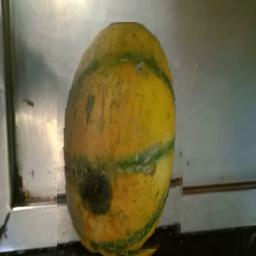Melon Semirotten: (57, 22, 192, 256)
